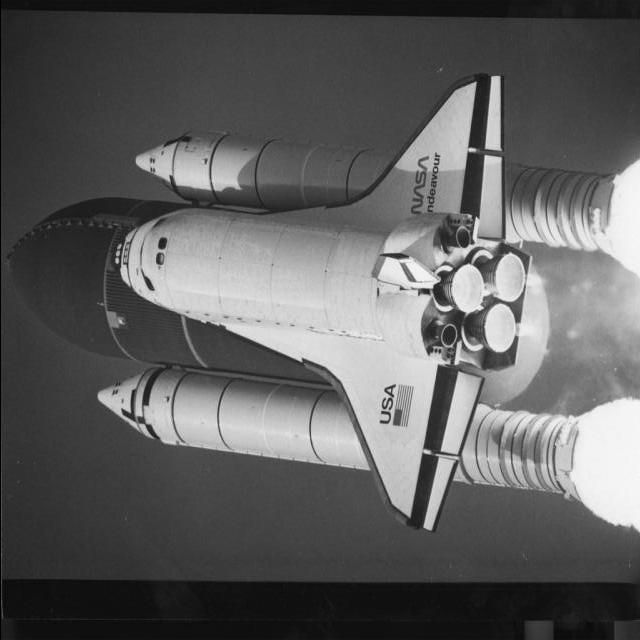missile: (82, 362, 386, 477)
